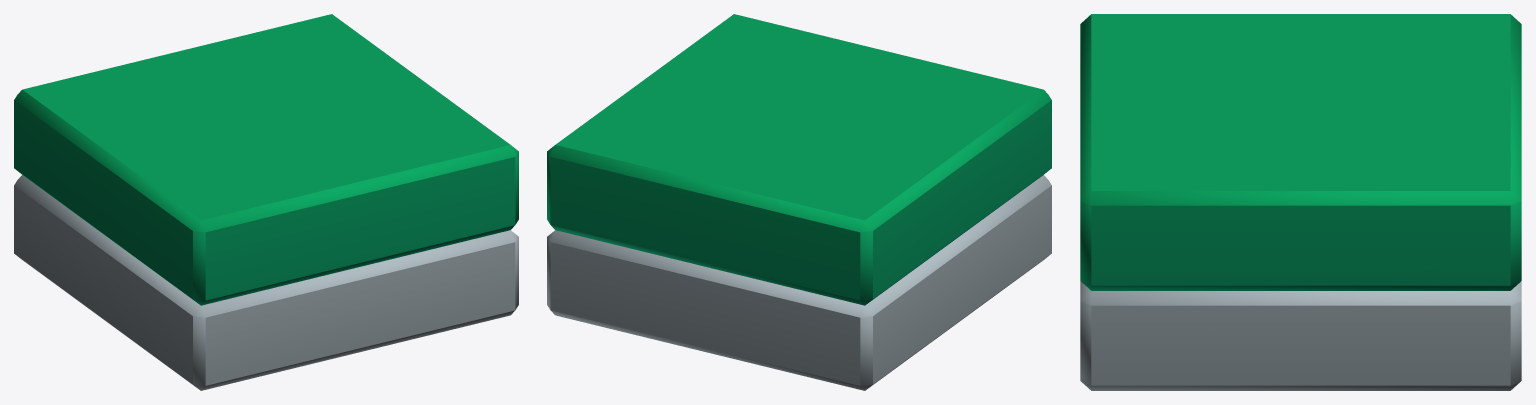
File: platform-2x2x1-green.glb
3 views of the same model, side by side, from view 1: azimuth 30°, elevation 25°; view 2: azimuth 150°, elevation 25°; view 3: azimuth 270°, elevation 25° (orthographic). The views are drawn at different scales.
Parts seen in each view (by area): view 1: platform_2x2x1_green; view 2: platform_2x2x1_green; view 3: platform_2x2x1_green.
Part boxes in pixels (x1,y1,x2,y2): platform_2x2x1_green: [14, 14, 518, 390]; platform_2x2x1_green: [547, 14, 1051, 390]; platform_2x2x1_green: [1080, 14, 1521, 390].
Size of the model in its own units: 2 by 1 by 2.
Materials: 1 (1 with a texture image).
